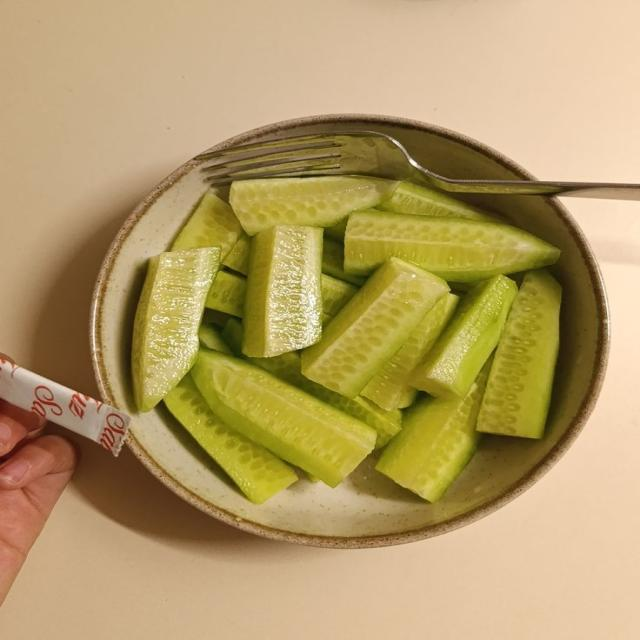cucumber sliced: (192, 351, 375, 486), (302, 259, 448, 397), (164, 375, 297, 503), (376, 364, 489, 502), (344, 212, 559, 281), (249, 352, 401, 448), (132, 247, 219, 411), (478, 270, 561, 438), (412, 276, 517, 396), (362, 294, 459, 410), (243, 226, 322, 356), (230, 176, 396, 236), (172, 191, 242, 258), (378, 182, 498, 221), (322, 237, 365, 285), (206, 271, 246, 317), (321, 274, 358, 315), (223, 233, 251, 275), (199, 323, 232, 354), (325, 217, 347, 243)
